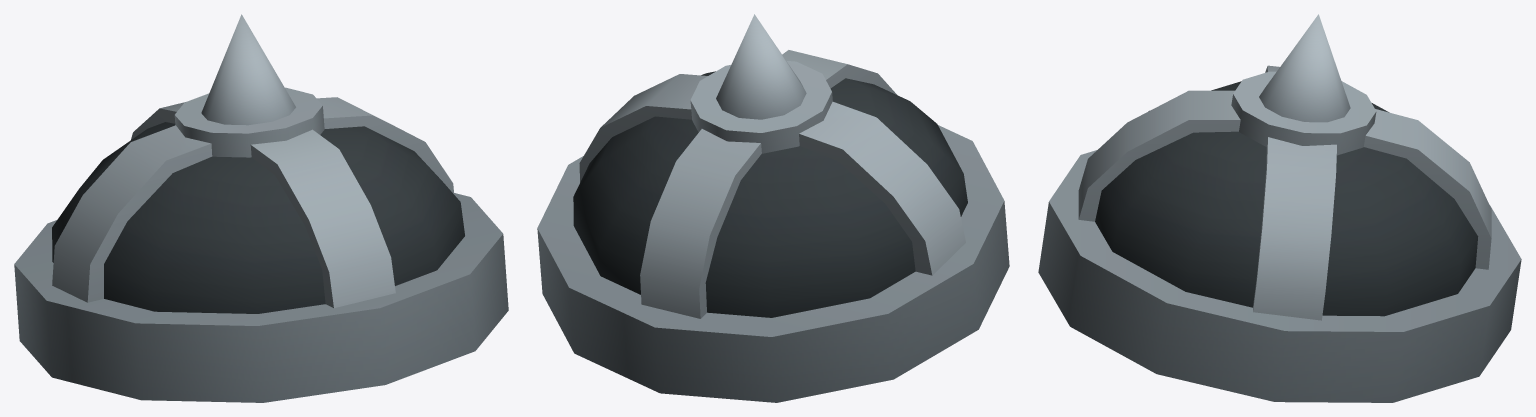
The model's file is Helmet 01.FBX.
The picture shows the model from 3 angles, left to right: view 1: azimuth 30°, elevation 25°; view 2: azimuth 150°, elevation 25°; view 3: azimuth 270°, elevation 25°; orthographic projection. The views are drawn at different scales.
Parts seen in each view (by area): view 1: Helmet 01; view 2: Helmet 01; view 3: Helmet 01.
Boxes of the visible parts, <box> form: Helmet 01: <box>14,14,508,402</box>; Helmet 01: <box>537,14,1009,402</box>; Helmet 01: <box>1038,14,1521,402</box>.
Size of the model in its own units: 75.16 by 54.97 by 76.15.
Materials: 1 (1 with a texture image).
